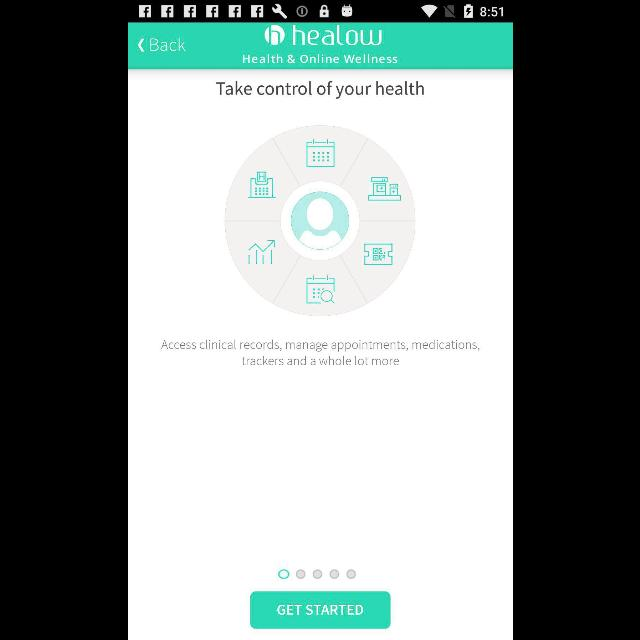icon: (138, 38, 144, 52)
image: (223, 126, 414, 316), (264, 24, 381, 46)
pageindicator: (277, 569, 355, 579)
text: (161, 339, 479, 365), (215, 81, 422, 99), (242, 54, 396, 64), (150, 38, 184, 52)
textbutton: (250, 592, 390, 628)
toolbar: (128, 23, 512, 69)
uppertaskbar: (128, 1, 512, 23)
